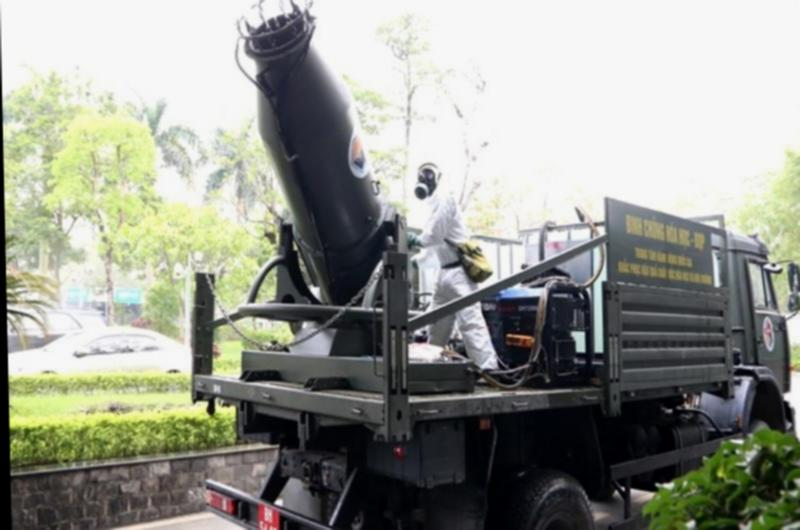License_Plate: (253, 504, 283, 529)
